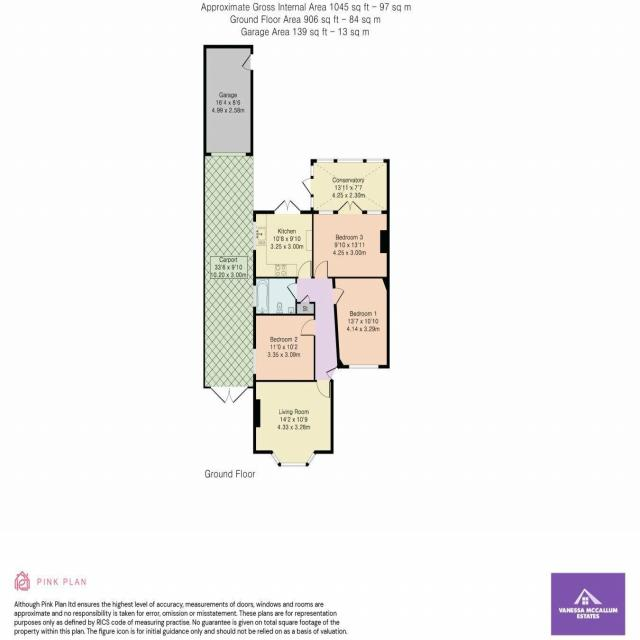DOOR: (313, 260, 329, 279), (300, 318, 316, 336), (316, 380, 331, 399), (297, 260, 312, 278), (333, 287, 345, 305)
DOUBLE DOOR: (273, 198, 302, 214), (337, 200, 363, 214)
ROOM: (253, 380, 334, 467), (312, 200, 390, 279), (332, 276, 390, 369), (253, 199, 314, 279), (253, 313, 315, 382)
WINDOW: (306, 451, 316, 466), (280, 462, 307, 467), (337, 158, 364, 163), (270, 452, 280, 465), (348, 365, 379, 369), (316, 158, 335, 163), (253, 284, 257, 307), (253, 221, 256, 251), (366, 158, 384, 163), (318, 210, 334, 215), (253, 348, 256, 374), (366, 210, 382, 214), (310, 196, 314, 209), (310, 164, 314, 177)
